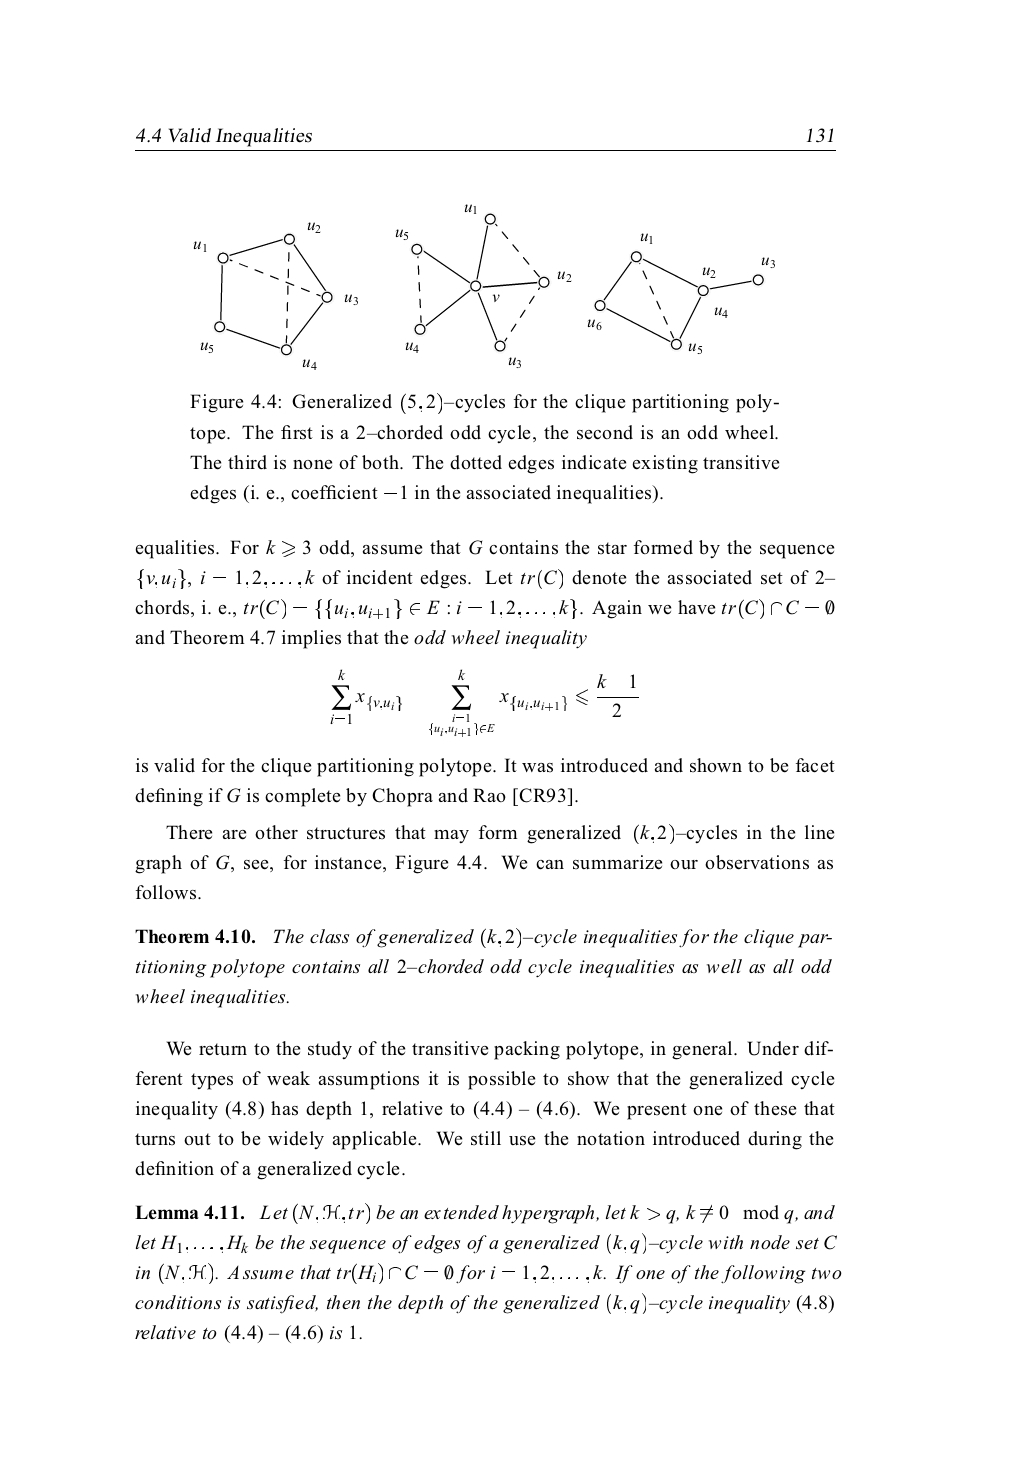figure: (395, 207, 571, 368), (193, 222, 351, 369), (587, 233, 774, 352)
formula: (330, 668, 638, 737)
